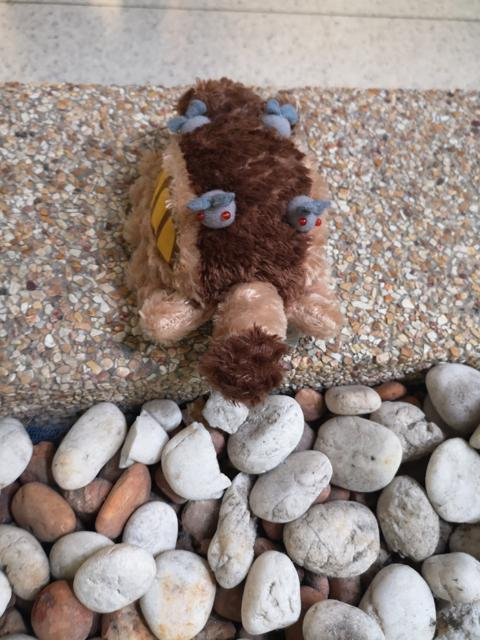nekobus: (116, 73, 338, 413)
